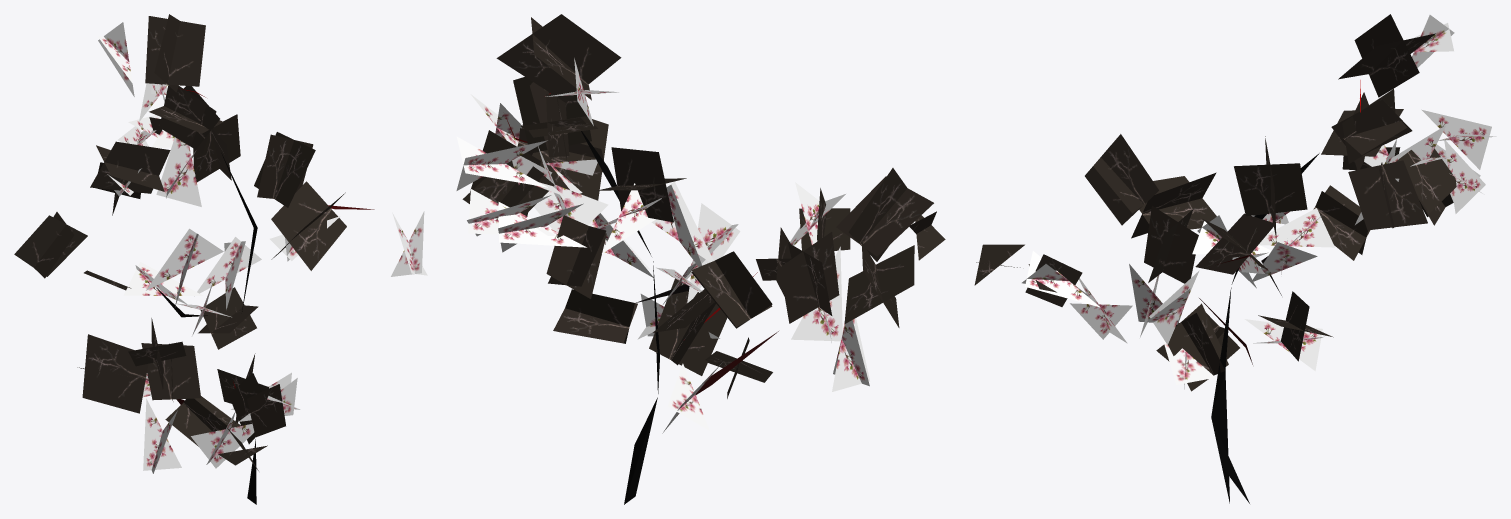
Rendered from sakura3 lod4.FBX.
3 views of the same model, side by side, from view 1: azimuth 30°, elevation 25°; view 2: azimuth 150°, elevation 25°; view 3: azimuth 270°, elevation 25° (orthographic). The views are drawn at different scales.
Visible parts, largest first — view 1: sakura3_LOD4; view 2: sakura3_LOD4; view 3: sakura3_LOD4.
Part boxes in pixels (left/top/right/bottom): sakura3_LOD4: left=14, top=14, right=427, bottom=504; sakura3_LOD4: left=456, top=14, right=945, bottom=504; sakura3_LOD4: left=974, top=14, right=1496, bottom=503.
Bounding box in the file's own units: 91585 × 109991 × 107673.
